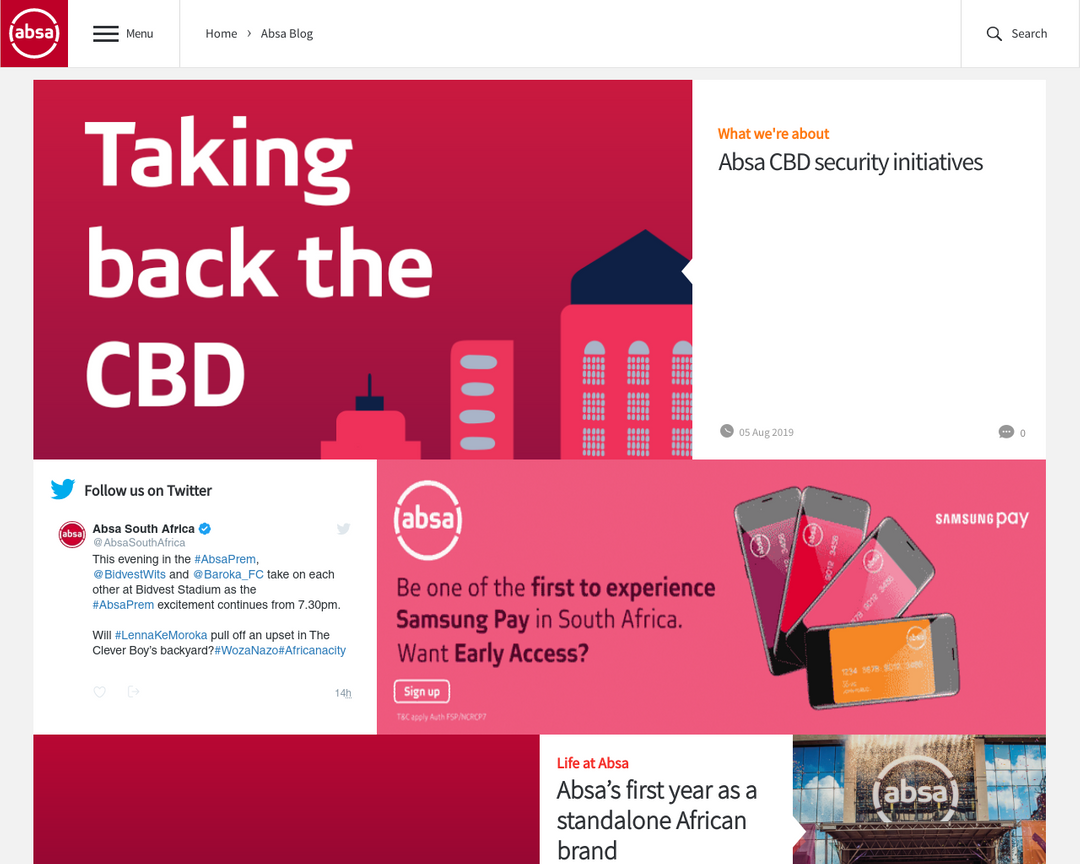ABSA: (8, 6, 63, 60)
